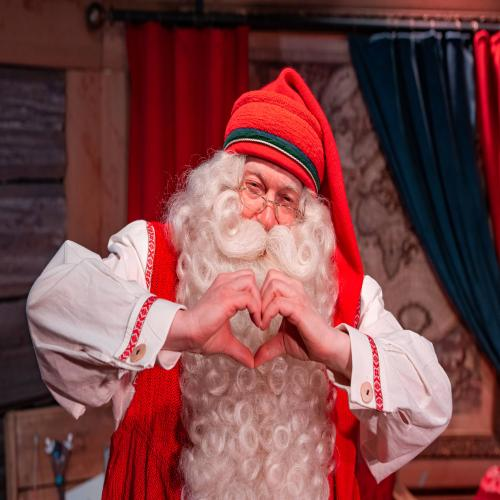Santa: (25, 66, 453, 500)
